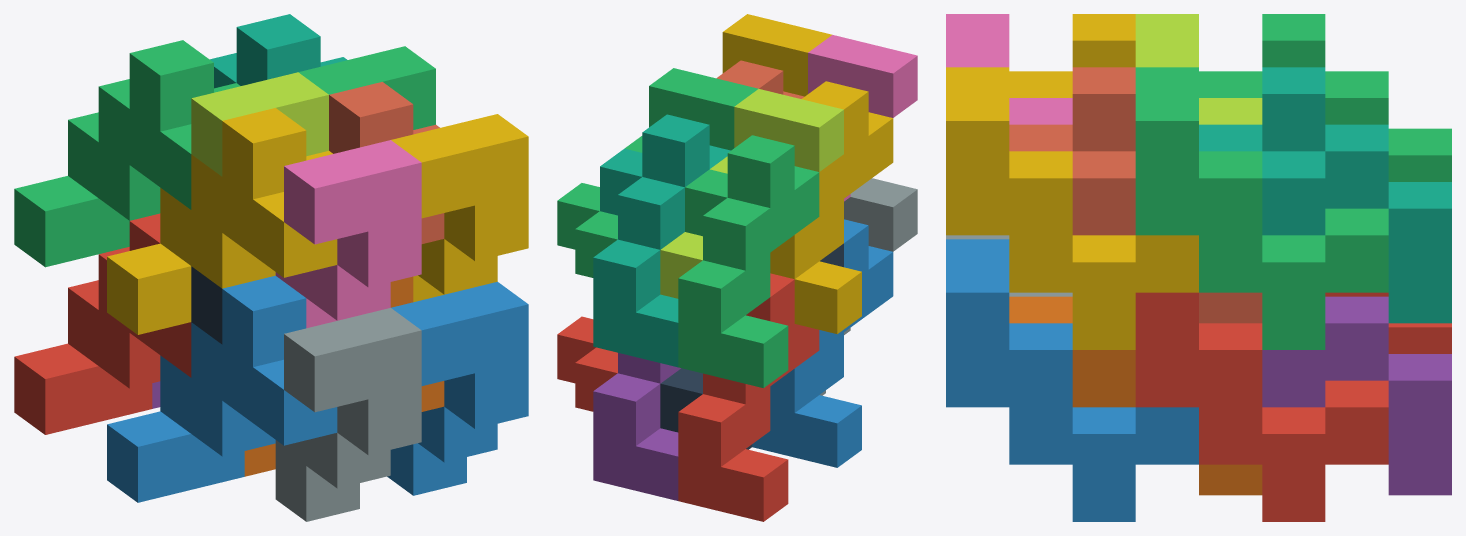
File: tiling.obj
3 renders of one model, left to right at view 1: azimuth 30°, elevation 25°; view 2: azimuth 150°, elevation 25°; view 3: azimuth 270°, elevation 25°, orthographic. The views are drawn at different scales.
Parts seen in each view (by area): view 1: copy_1_domain_2, copy_1_domain_3, copy_1_domain_4, copy_2_domain_2, copy_2_domain_6, copy_2_domain_4, copy_2_domain_8, copy_1_domain_1, copy_2_domain_3, copy_1_domain_7, copy_1_domain_8, copy_2_domain_7 (+2 smaller); view 2: copy_1_domain_3, copy_1_domain_7, copy_1_domain_1, copy_1_domain_4, copy_1_domain_2, copy_1_domain_5, copy_2_domain_7, copy_2_domain_3, copy_2_domain_4, copy_2_domain_8, copy_2_domain_2, copy_2_domain_5 (+2 smaller); view 3: copy_2_domain_7, copy_2_domain_6, copy_2_domain_8, copy_2_domain_5, copy_1_domain_7, copy_1_domain_5, copy_1_domain_8, copy_1_domain_3, copy_1_domain_6, copy_1_domain_4, copy_2_domain_3, copy_2_domain_4 (+2 smaller).
Boxes of the visible parts, <box> form: copy_1_domain_2: <box>107,275,337,502</box>; copy_1_domain_3: <box>14,40,240,267</box>; copy_1_domain_4: <box>107,108,337,334</box>; copy_2_domain_2: <box>275,308,421,521</box>; copy_2_domain_6: <box>387,281,528,495</box>; copy_2_domain_4: <box>275,140,421,328</box>; copy_2_domain_8: <box>391,114,528,302</box>; copy_1_domain_1: <box>14,213,191,434</box>; copy_2_domain_3: <box>191,72,328,176</box>; copy_1_domain_7: <box>210,14,347,88</box>; copy_1_domain_8: <box>329,82,444,243</box>; copy_2_domain_7: <box>298,46,435,129</box>; copy_1_domain_3: <box>678,135,819,387</box>; copy_1_domain_7: <box>593,114,730,367</box>; copy_1_domain_1: <box>678,273,819,521</box>; copy_1_domain_4: <box>770,81,893,334</box>; copy_1_domain_2: <box>752,219,893,467</box>; copy_1_domain_5: <box>593,353,680,500</box>; copy_2_domain_7: <box>557,68,758,277</box>; copy_2_domain_3: <box>660,89,843,298</box>; copy_2_domain_4: <box>808,35,917,201</box>; copy_2_domain_8: <box>722,14,832,96</box>; copy_2_domain_2: <box>820,178,917,395</box>; copy_2_domain_5: <box>557,316,617,411</box>; copy_2_domain_7: <box>1135,67,1388,349</box>; copy_2_domain_6: <box>946,239,1198,521</box>; copy_2_domain_8: <box>946,67,1198,349</box>; copy_2_domain_5: <box>1135,292,1388,521</box>; copy_1_domain_7: <box>1199,67,1451,323</box>; copy_1_domain_5: <box>1262,296,1451,495</box>; copy_1_domain_8: <box>1009,67,1262,323</box>; copy_1_domain_3: <box>1199,14,1451,181</box>; copy_1_domain_6: <box>1009,296,1262,495</box>; copy_1_domain_4: <box>1009,14,1135,97</box>; copy_2_domain_3: <box>1135,14,1262,124</box>; copy_2_domain_4: <box>946,14,1072,124</box>.
Bounding box in the file's own units: 6 × 7 × 8.
